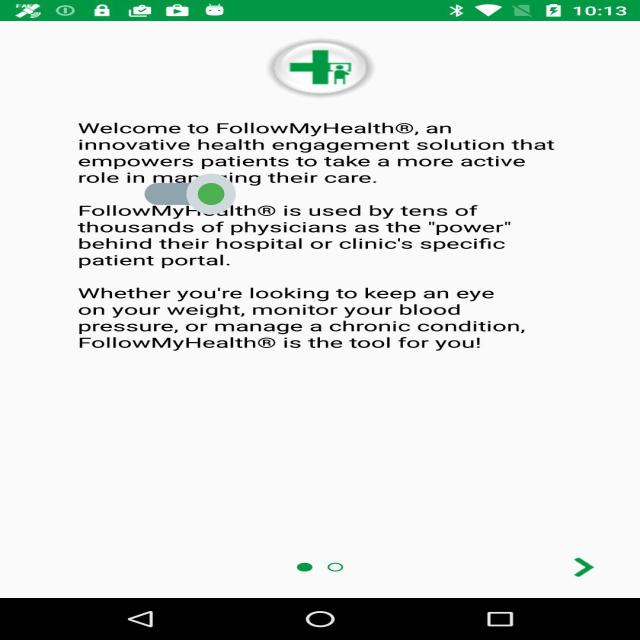social proof: (144, 156, 236, 232)
